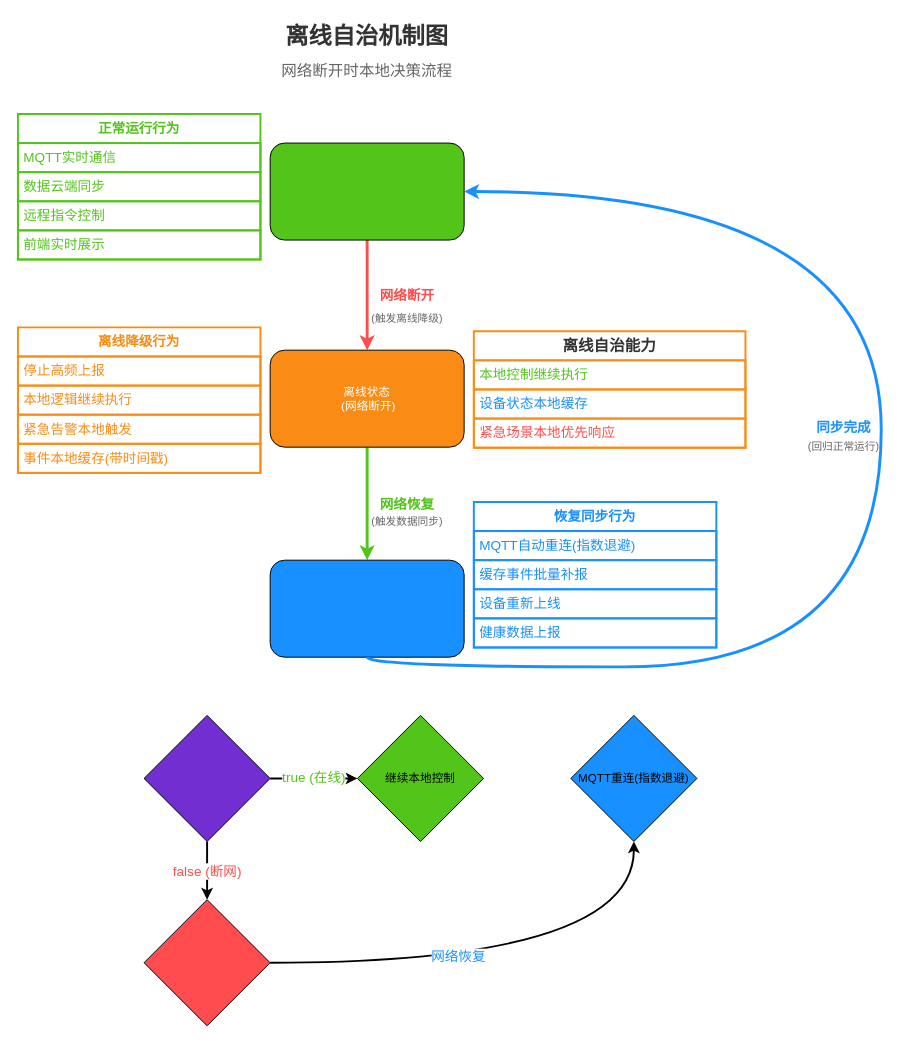
The diagram is 899 pixels wide and 1043 high, and some of its shapes have lost their labels. The shapes that lost their labels are listed below. From the top down, each one's centre as x and y in pixels, then its label:
point 366,191: 正常状态 (云端在线)
point 366,608: 恢复状态 (数据补同步)
point 206,777: s_network_ready?
point 206,962: 停止MQTT上报
